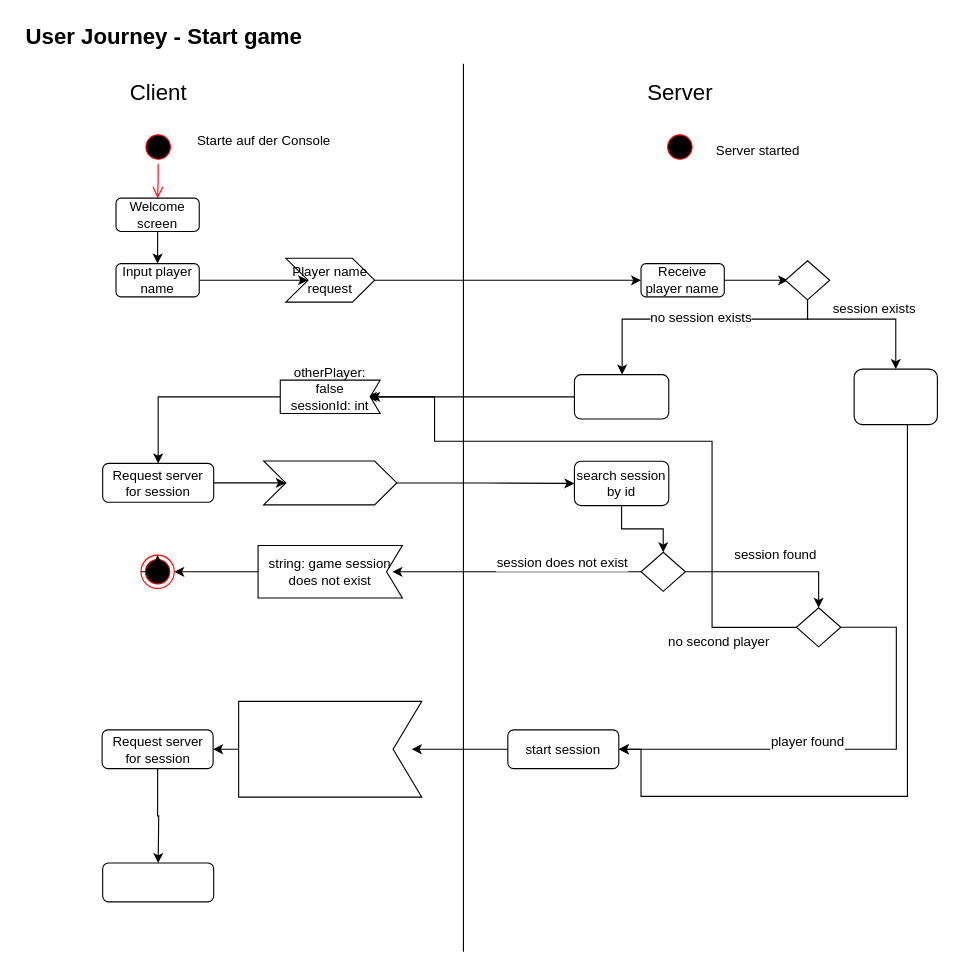
This 957x972 diagram has some shape labels left out. Each missing label, with the box of its shape:
add player to existing session: (853, 368, 937, 425)
Display game: (102, 862, 214, 902)
otherPlayer: true otherPlayerName: string canStart: boolean sessionId: int: (238, 700, 422, 797)
sessionId: int: (263, 460, 397, 505)
store player + create session: (573, 374, 669, 419)
